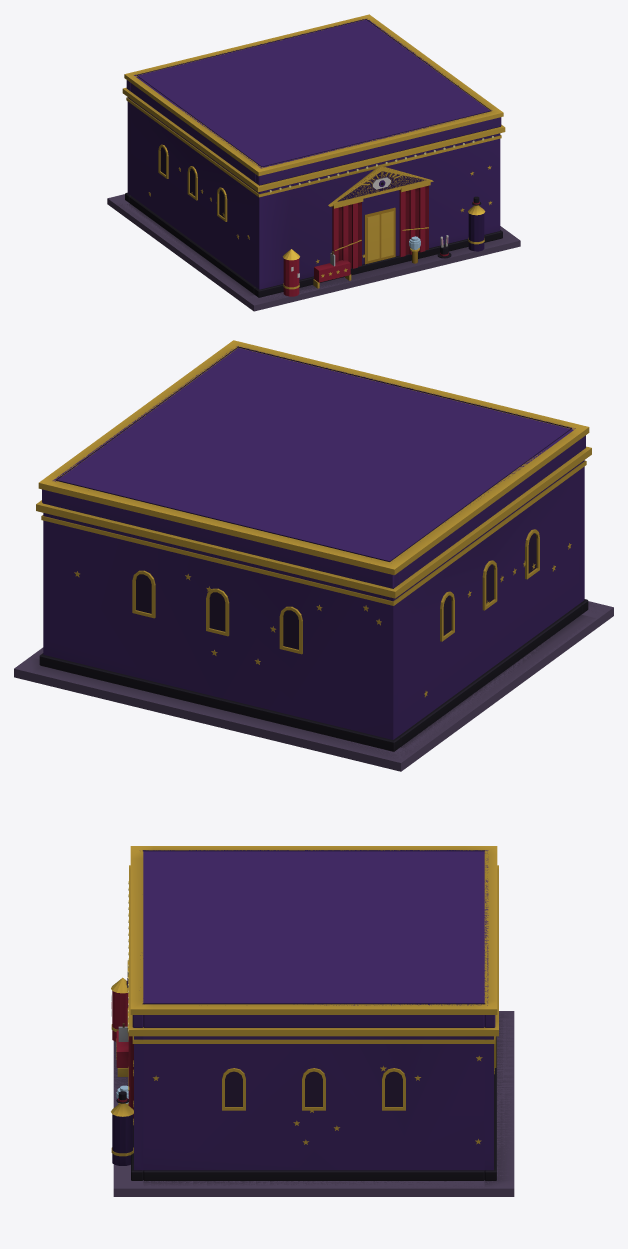
The model's file is AllSeeingEyeFloor.fbx.
The picture shows the model from 3 angles, top to bottom: view 1: azimuth 30°, elevation 25°; view 2: azimuth 150°, elevation 25°; view 3: azimuth 270°, elevation 25°; orthographic projection. The views are drawn at different scales.
Visible parts, largest first — view 1: EY_F_Rings, EY_S_All, EY_F_Smooth, EY_F_Quiet, EY_F_Props, EY_F_Glass; view 2: EY_F_Rings, EY_S_All, EY_F_Smooth, EY_F_Quiet, EY_F_Glass; view 3: EY_S_All, EY_F_Rings, EY_F_Smooth, EY_F_Quiet, EY_F_Props, EY_F_Glass.
Boxes of the visible parts, box(x1,y1,x2,y2) form: EY_F_Rings: box(123, 14, 504, 297); EY_S_All: box(107, 18, 520, 311); EY_F_Smooth: box(122, 74, 505, 297); EY_F_Quiet: box(115, 171, 519, 305); EY_F_Props: box(282, 196, 485, 296); EY_F_Glass: box(160, 136, 493, 249); EY_F_Rings: box(36, 340, 591, 751); EY_S_All: box(14, 346, 613, 771); EY_F_Smooth: box(36, 427, 591, 751); EY_F_Quiet: box(14, 601, 612, 762); EY_F_Glass: box(136, 533, 536, 649); EY_S_All: box(113, 850, 514, 1196); EY_F_Rings: box(129, 846, 498, 1180); EY_F_Smooth: box(111, 960, 498, 1180); EY_F_Quiet: box(114, 1011, 513, 1188); EY_F_Props: box(111, 977, 133, 1165); EY_F_Glass: box(116, 881, 402, 1106).
Size of the model in its own units: 60 by 20 by 60.
